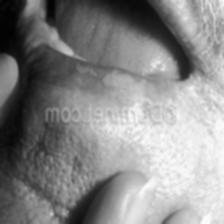Potentially Malignant Skin Tumors: (102, 69, 148, 106)
